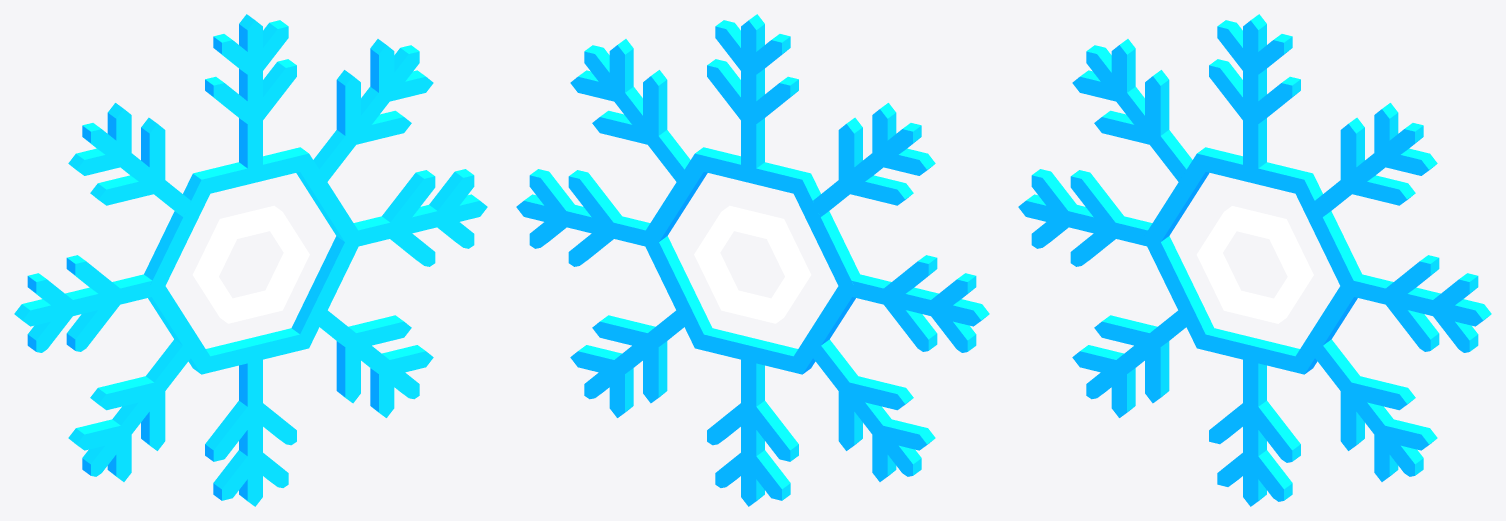
Rendered from snowflake.glb.
3 views of the same model, side by side, from view 1: azimuth 30°, elevation 25°; view 2: azimuth 150°, elevation 25°; view 3: azimuth 330°, elevation 25° (orthographic).
Visible parts, largest first — view 1: Curve.031, Curve.028; view 2: Curve.031, Curve.028; view 3: Curve.031, Curve.028.
Part boxes in pixels (<box>): Curve.031: <box>14,14,487,506</box>; Curve.028: <box>144,147,362,374</box>; Curve.031: <box>516,14,989,506</box>; Curve.028: <box>641,147,859,374</box>; Curve.031: <box>1018,14,1491,506</box>; Curve.028: <box>1143,147,1361,374</box>.
Size of what is drawn, in the model's own units: 2.17 by 2.17 by 0.07.
